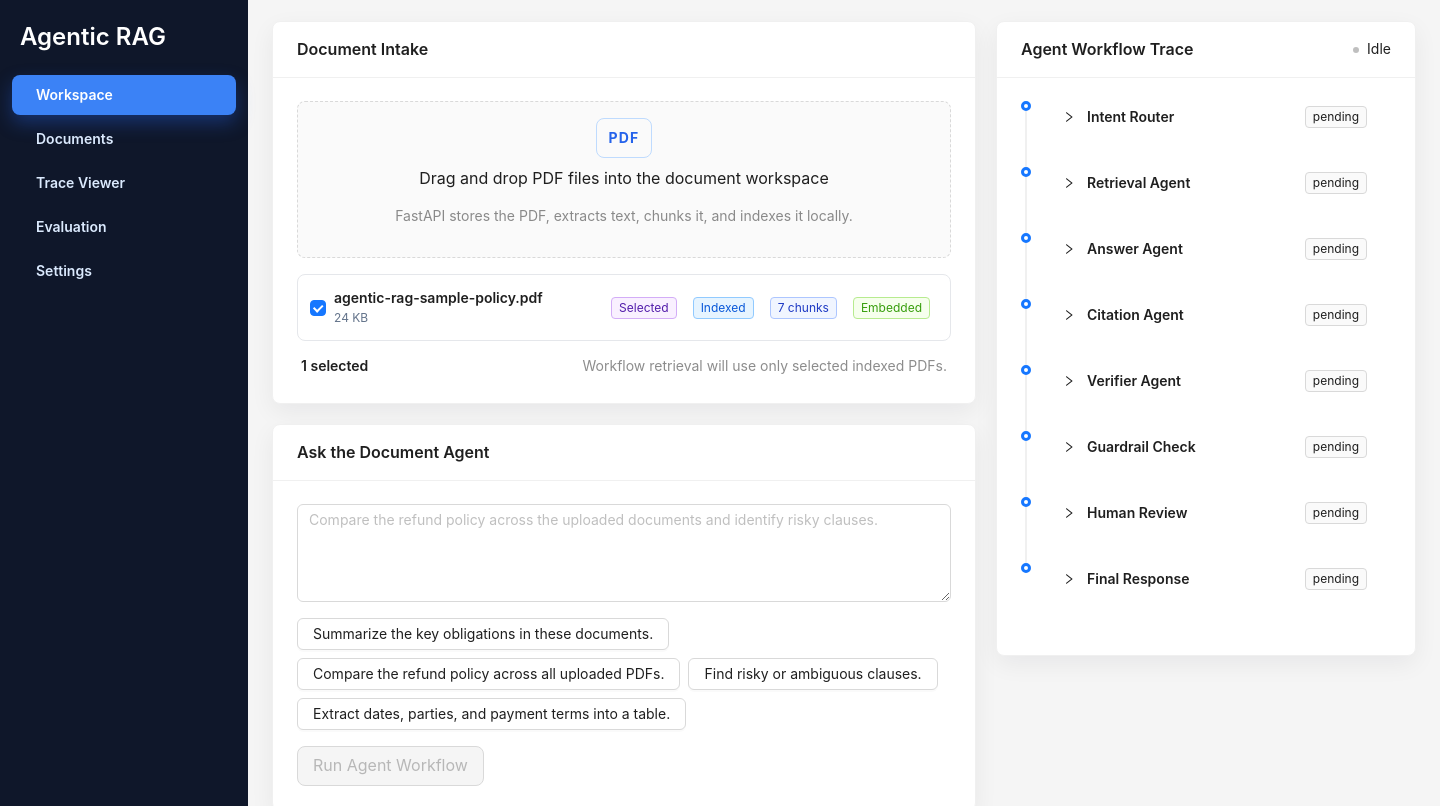
Test: simulates an agent run and displays cited answer details
Expected: the text "agentic-rag-sample-policy.pdf" is shown, [334,289,543,306]
Replace the text in the text box with placeholder "Compare the refund policy" with "Find risky refund clauses" at (624, 553), box [297,504,951,602]
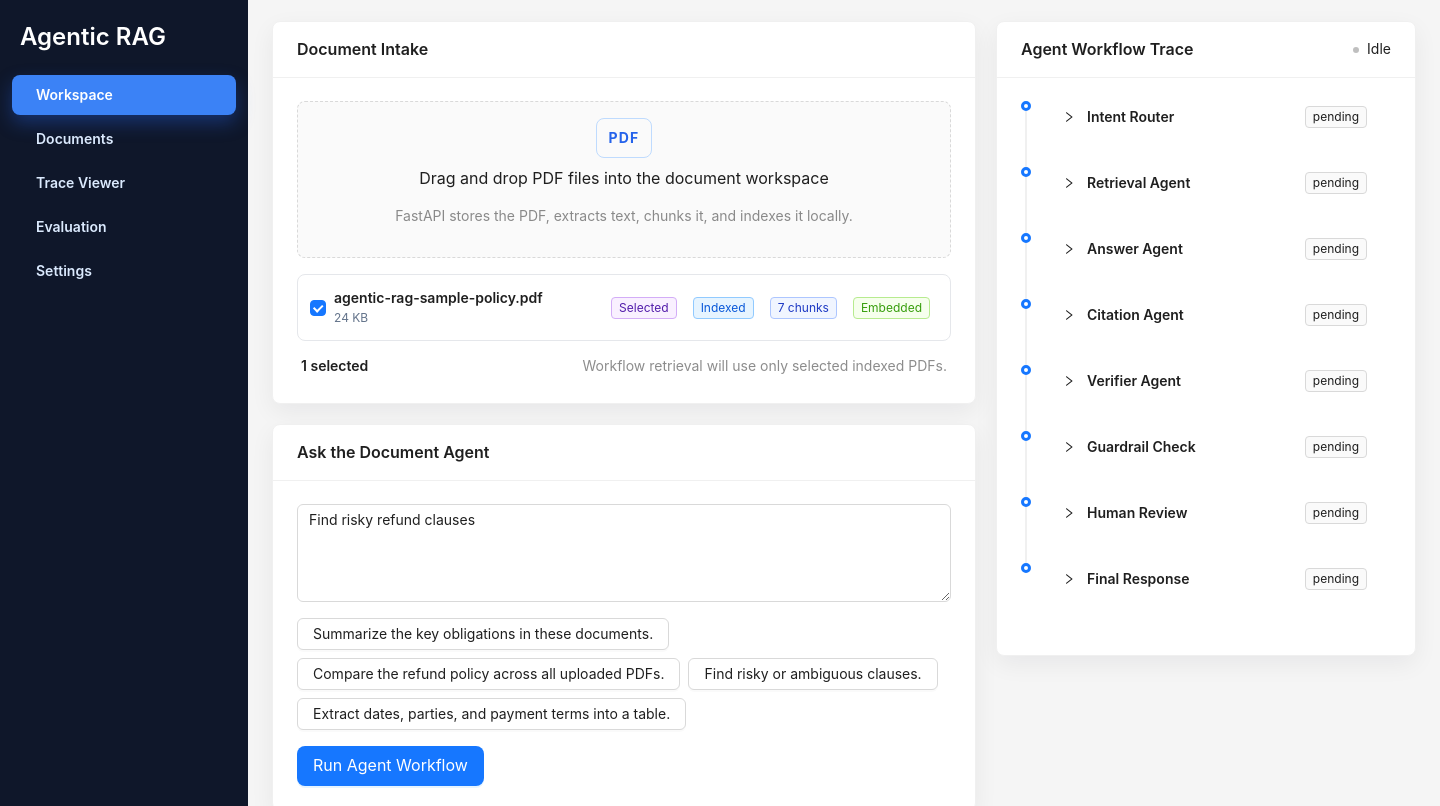
Click the button "Run Agent Workflow" at (390, 766), box [297,746,484,786]
(page scrolled)
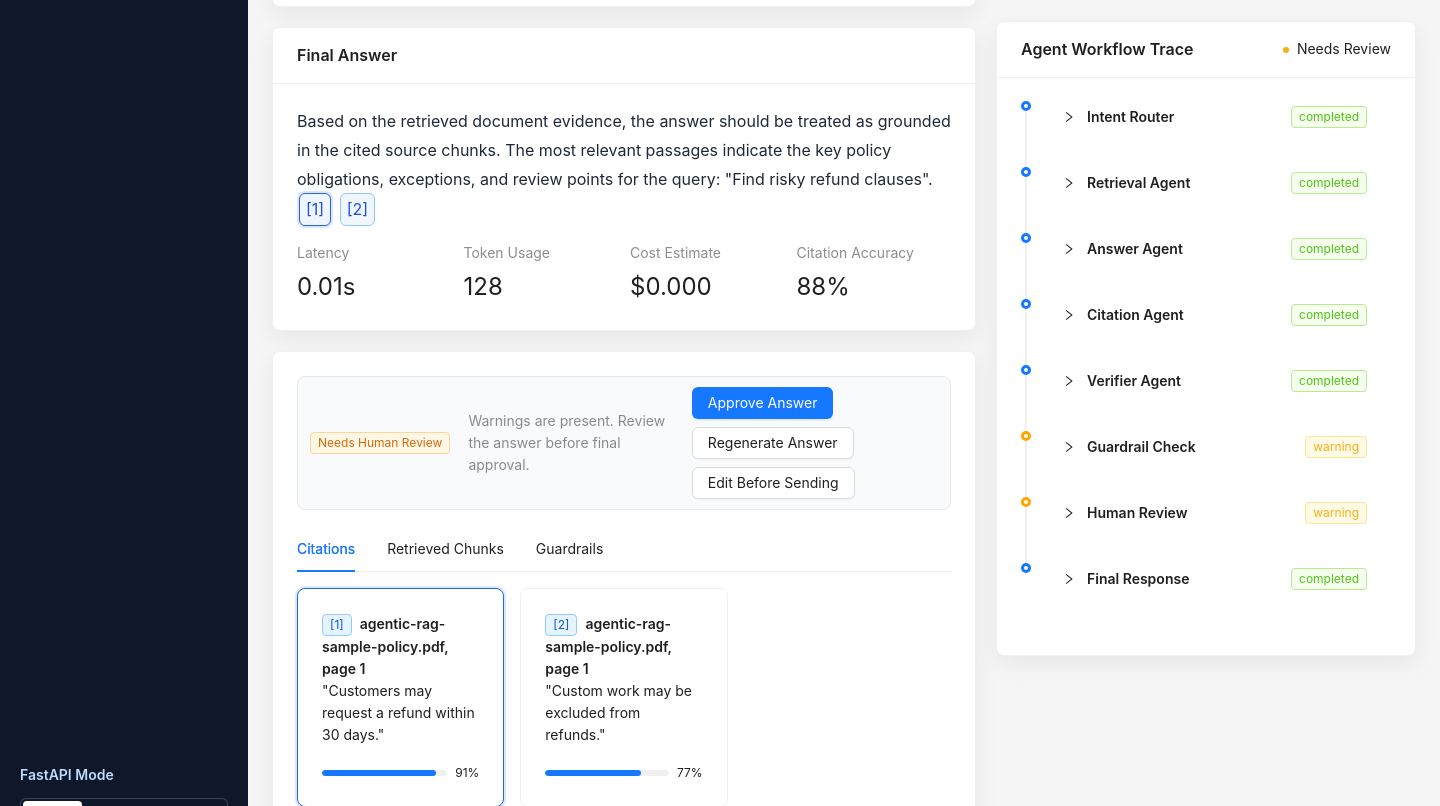
Now the text "Based on the retrieved document evidence" is shown, box [297,111,951,189]
Now the text "Needs Review" is shown, box [1297,40,1391,58]
Now the 1st text "agentic-rag-sample-policy.pdf, page 1" is shown, box [322,615,448,677]
Click the button "Approve Answer" at (763, 403), box [692,387,833,419]
(page scrolled)
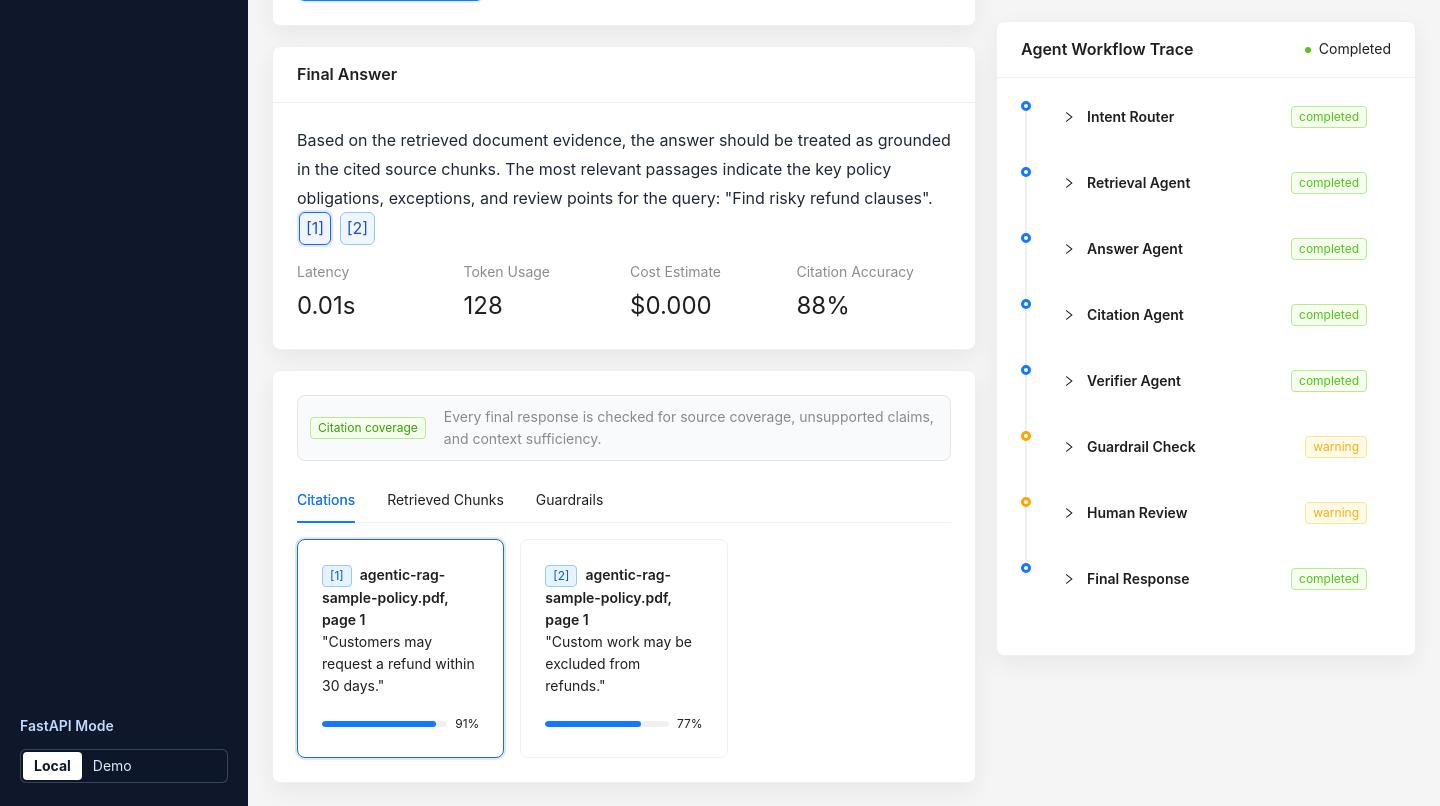
Now the text "Completed" is shown, box [1319,40,1391,58]
